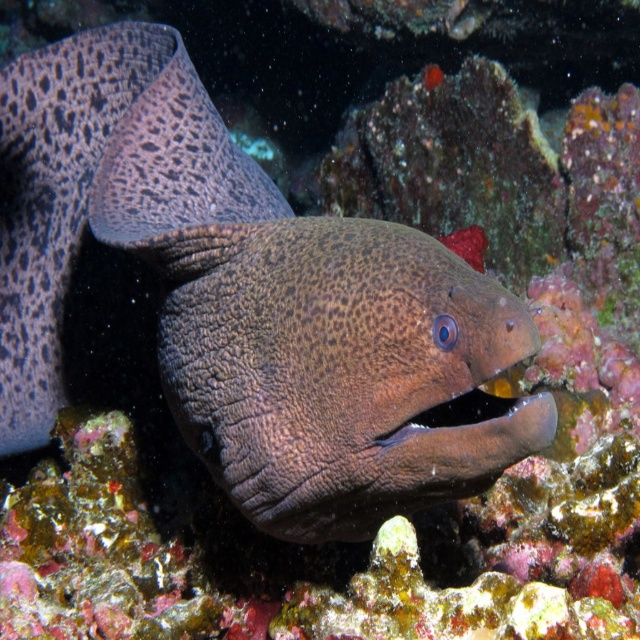Fish: (21, 59, 542, 578)
